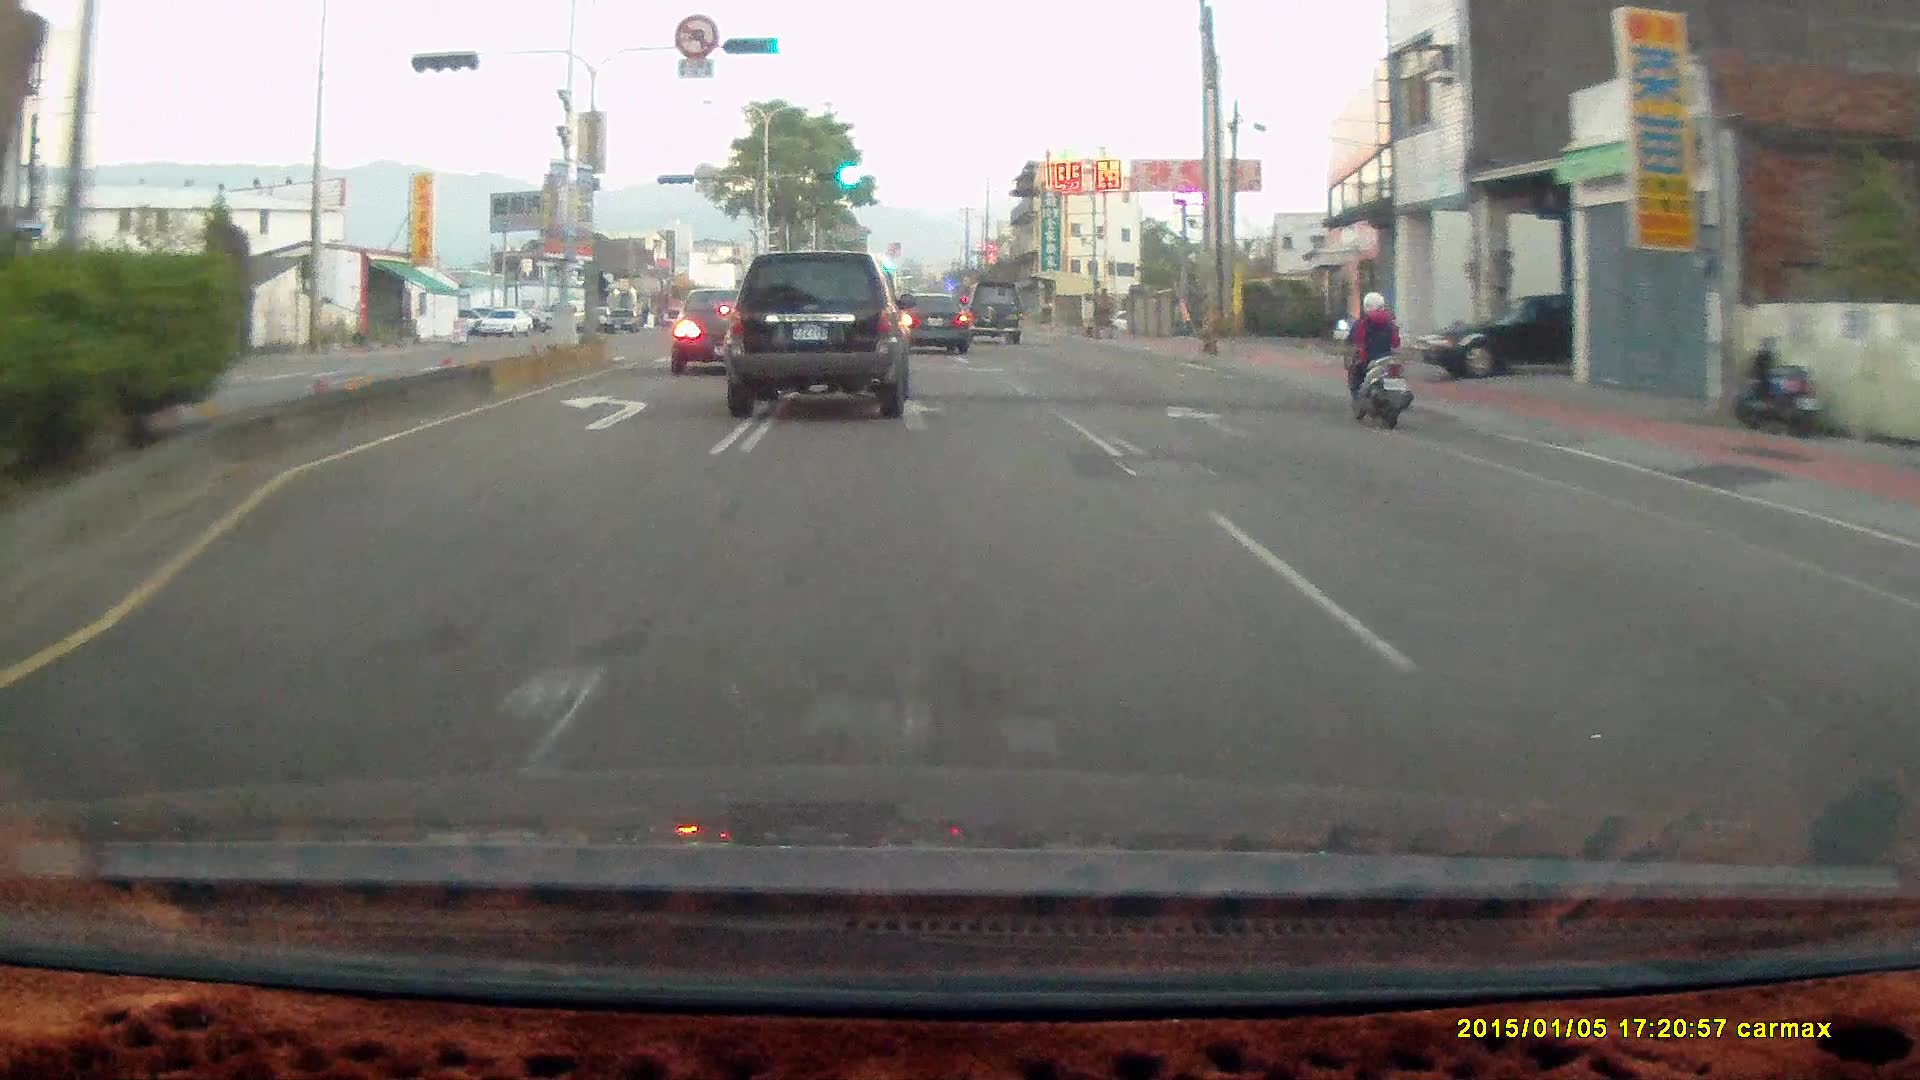rider: (1328, 281, 1425, 439), (1335, 287, 1414, 425)
vehicle: (730, 256, 921, 432), (723, 250, 917, 417), (1414, 292, 1635, 378), (1414, 293, 1590, 379), (672, 286, 783, 374), (668, 288, 777, 373), (894, 293, 972, 356), (890, 289, 969, 351), (960, 282, 1028, 349), (959, 277, 1025, 342), (475, 306, 534, 337), (535, 298, 588, 325), (605, 305, 642, 328)
